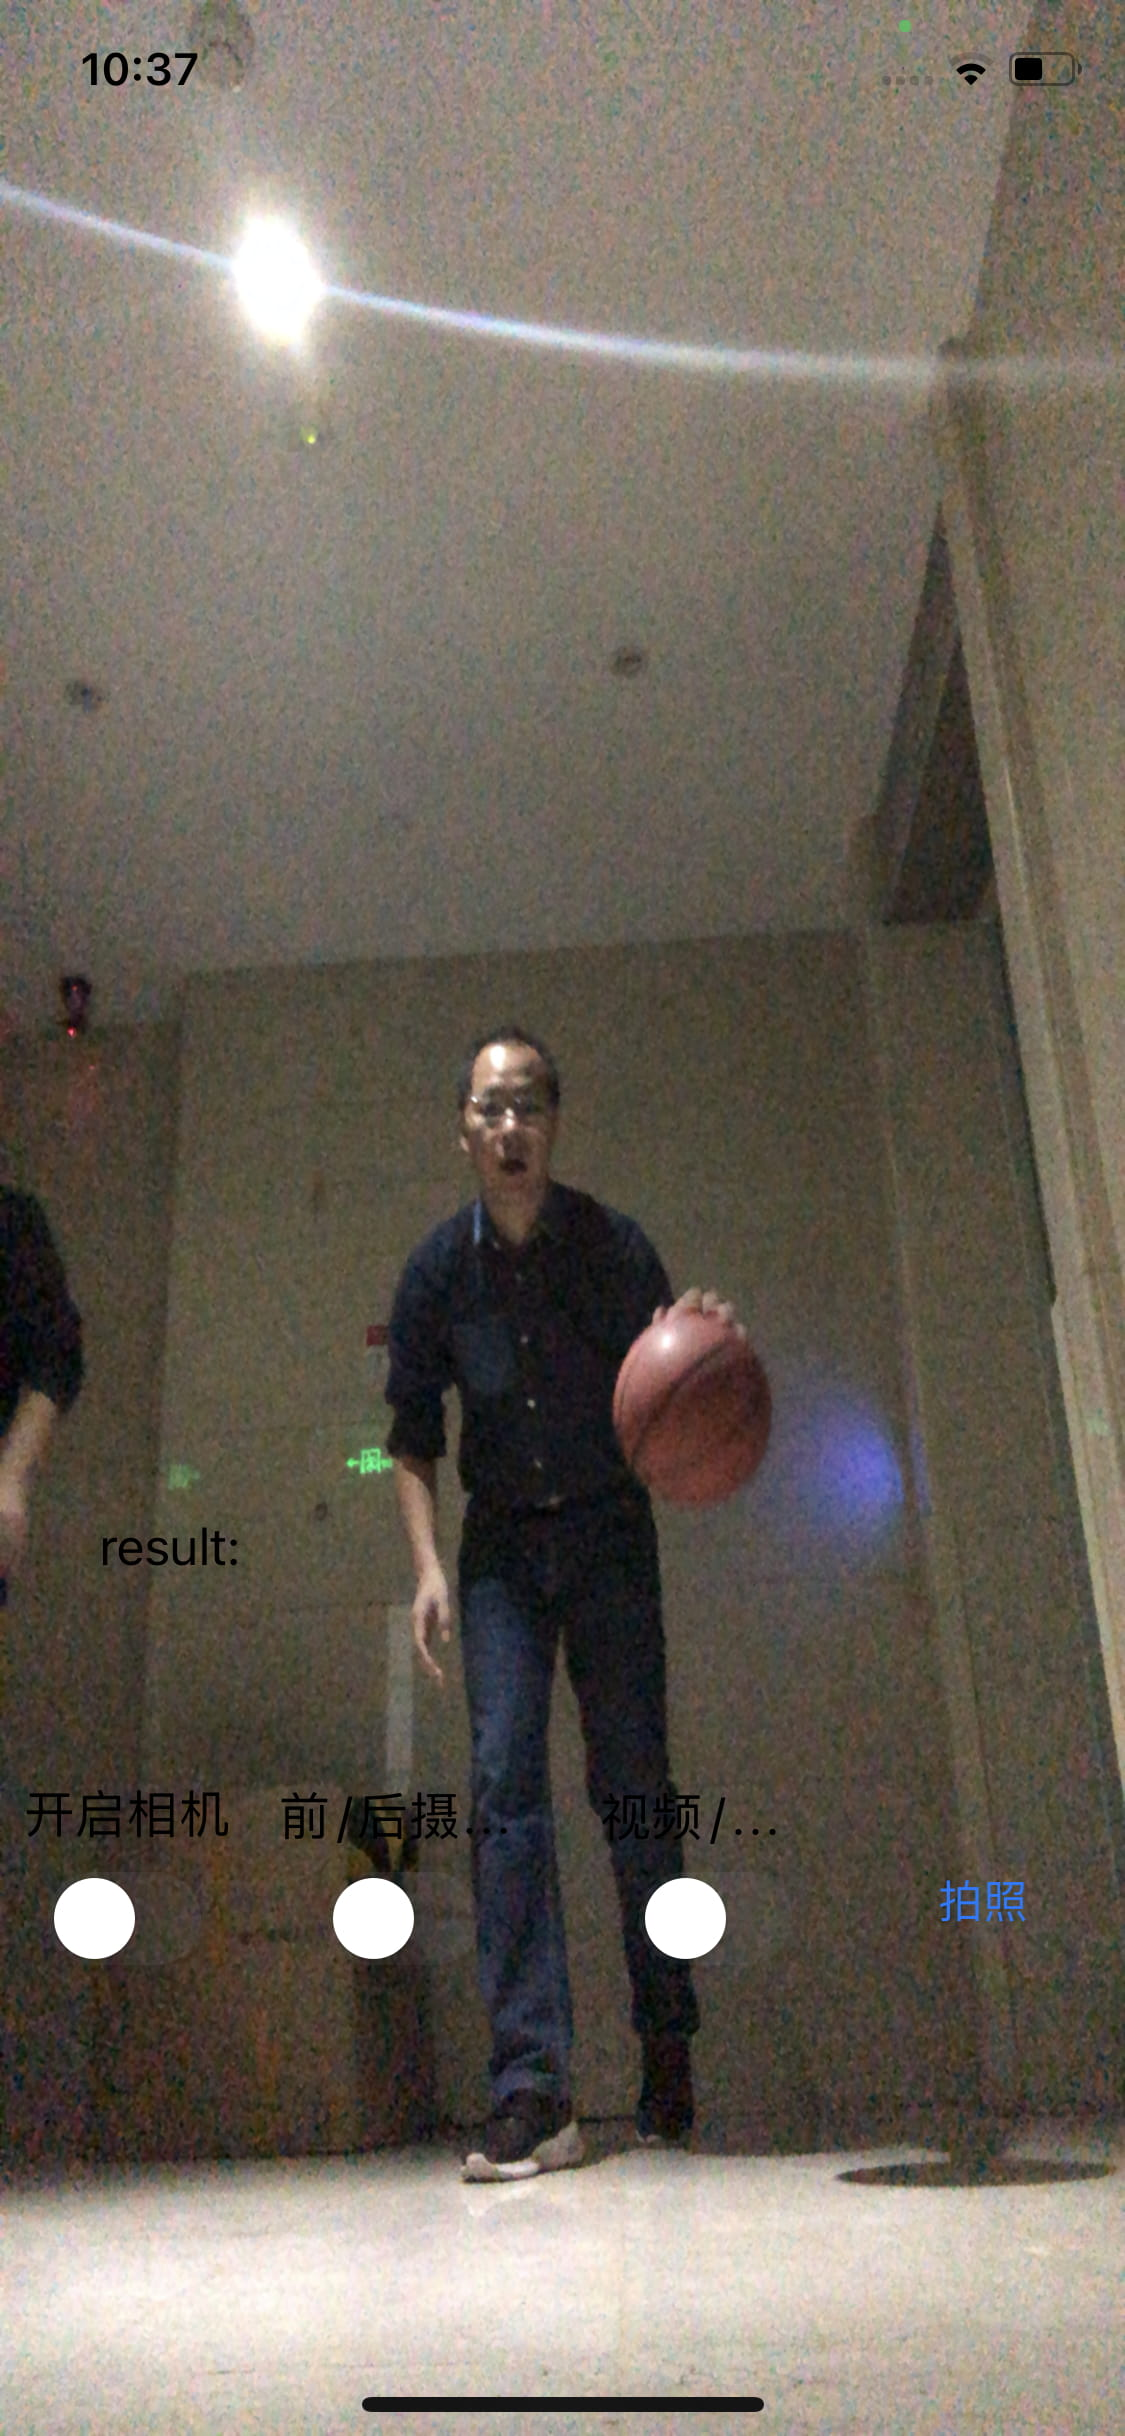ball: (612, 1317, 775, 1504)
